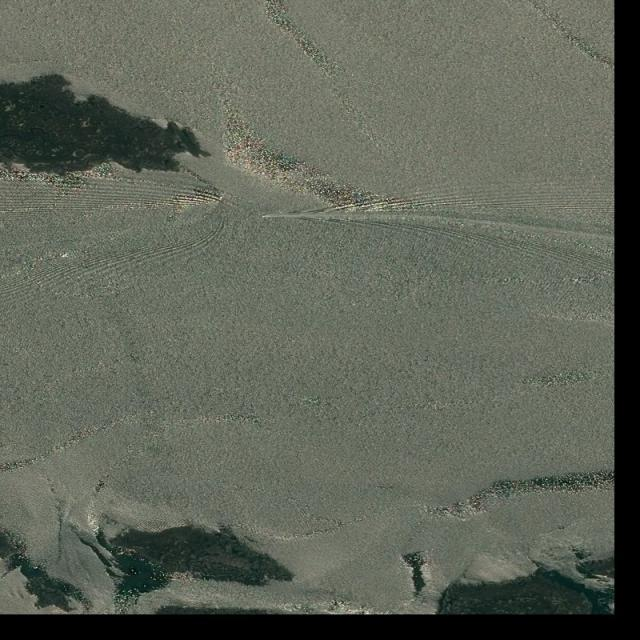ship: (262, 215, 266, 218)
